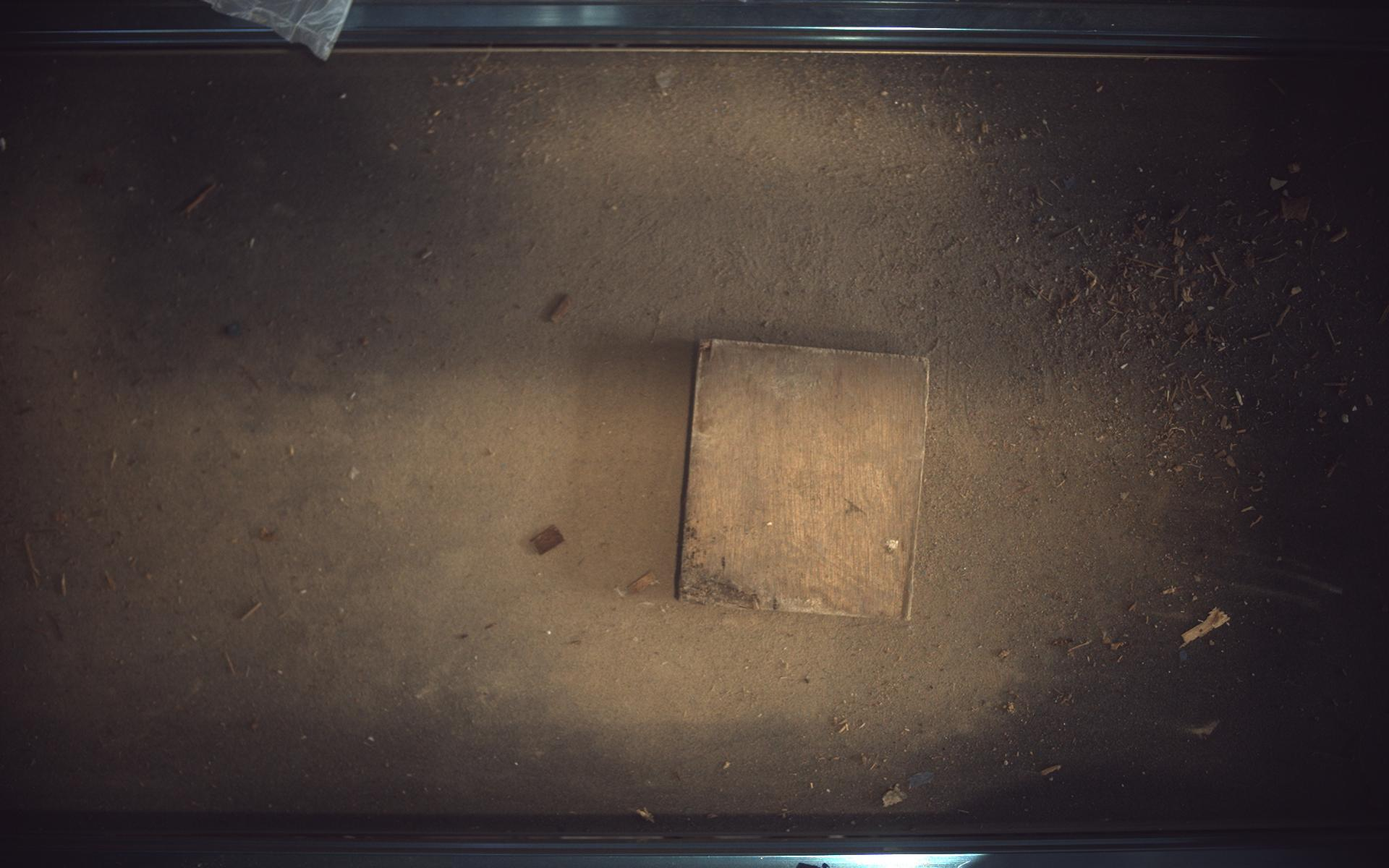wood: (678, 339, 930, 620)
